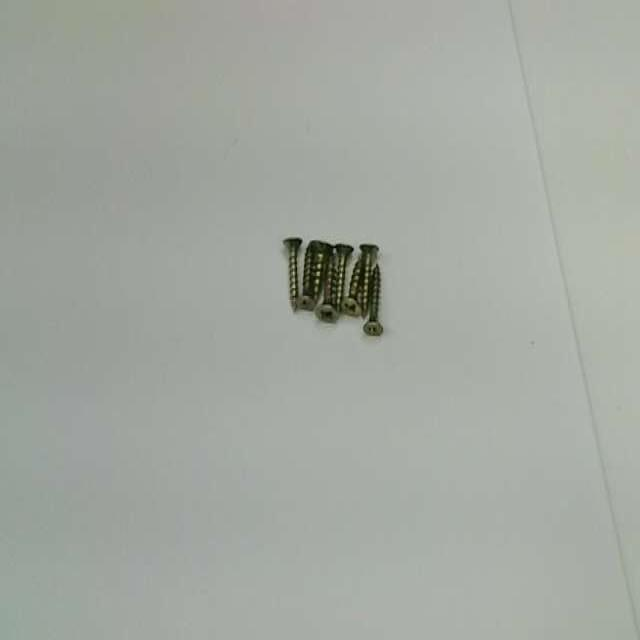Parafuso: (303, 241, 331, 308), (316, 248, 337, 321), (332, 244, 353, 313), (363, 264, 383, 336), (359, 244, 378, 316), (298, 240, 317, 308), (284, 239, 301, 311), (341, 260, 361, 316)
